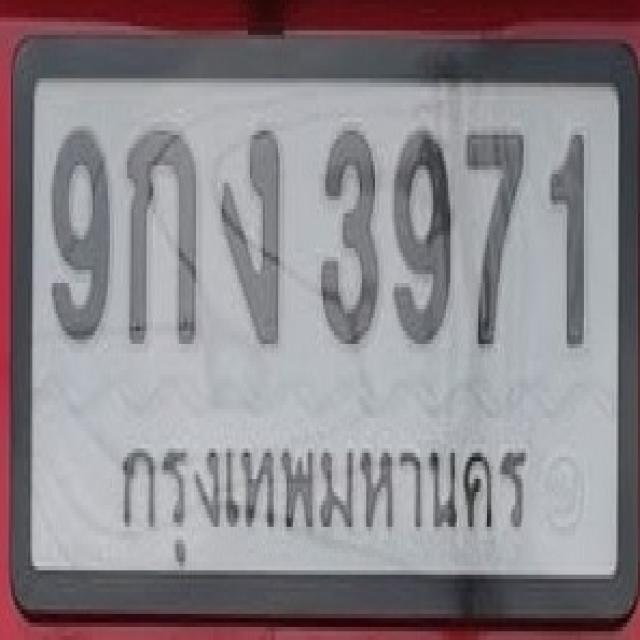license_plate: (9, 25, 640, 621)
